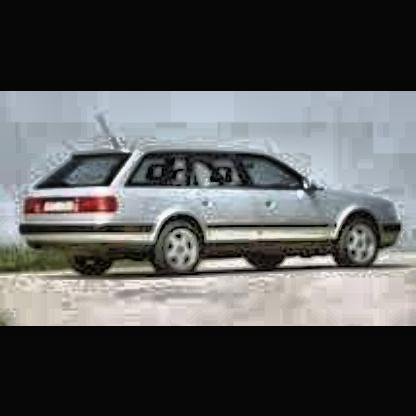Audi 100 Wagon 1994: (16, 109, 406, 272)
